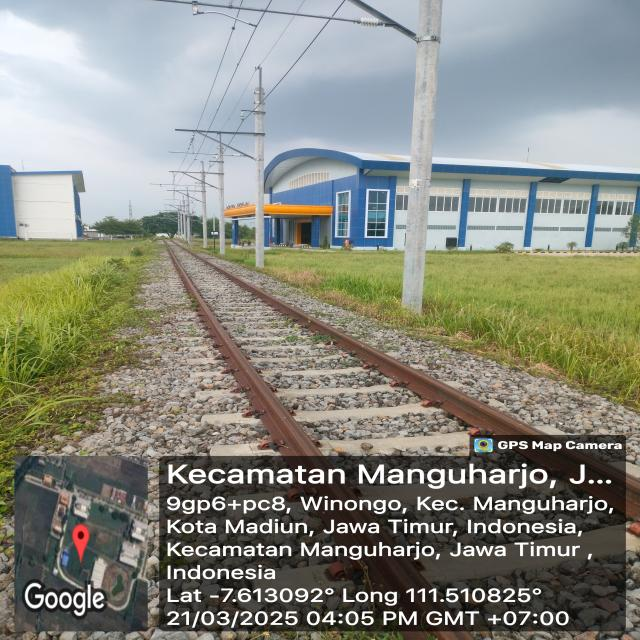rail-detection: (188, 251, 546, 440), (168, 245, 321, 456), (514, 435, 640, 516)
